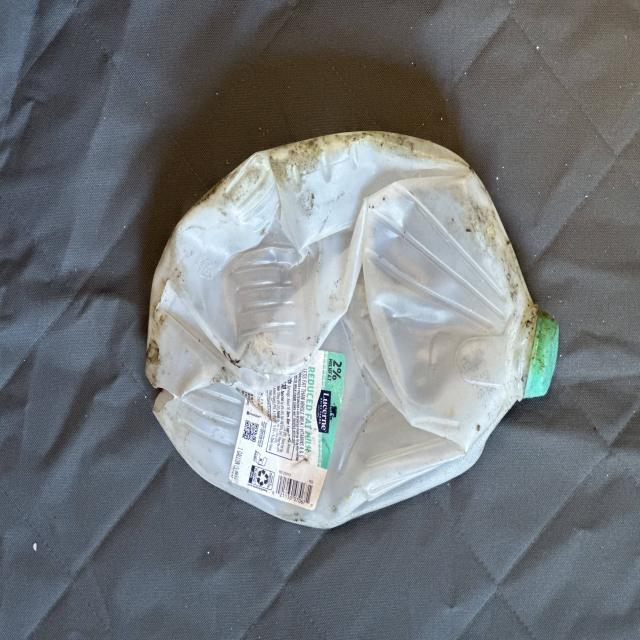milk-jug: (145, 130, 560, 534)
